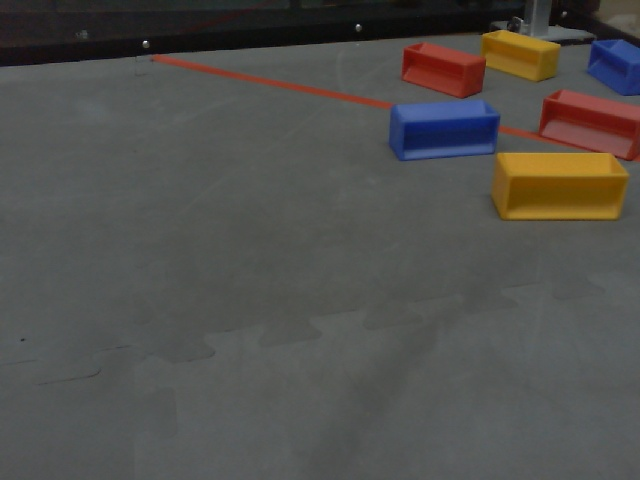BlueSample: (391, 99, 498, 161), (585, 35, 640, 97)
RedSample: (536, 85, 640, 157), (399, 40, 488, 101)
YellowSample: (488, 150, 633, 226), (479, 27, 560, 85)
